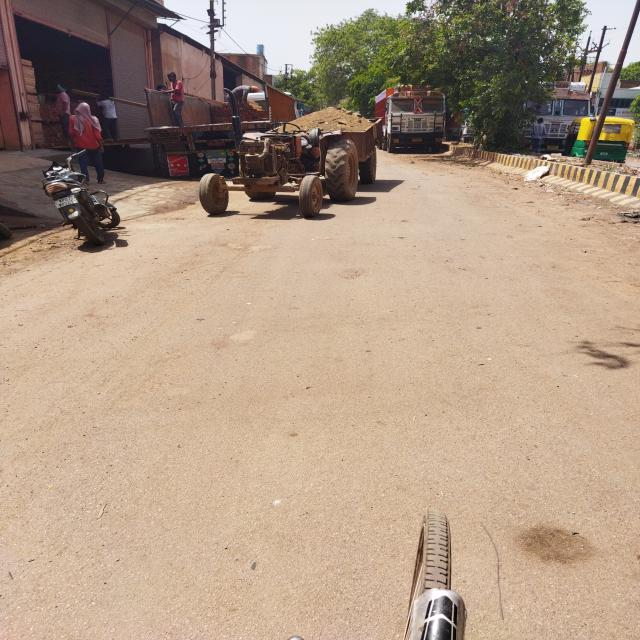Autorickshaw: (564, 119, 634, 167)
Bike: (14, 146, 167, 258)
Truck: (125, 75, 316, 175), (365, 80, 455, 159), (520, 76, 593, 146)
tractor: (198, 110, 386, 218)
